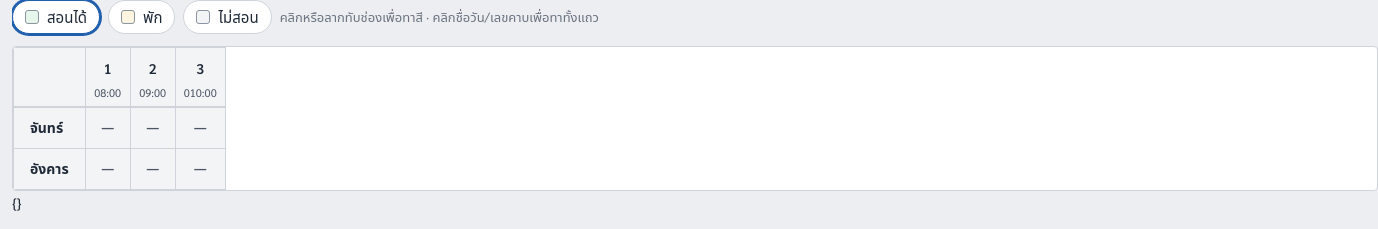
Test: เลือกพู่กันแล้วคลิก/ลากทาช่อง และคลิกหัวแถวทาทั้งวัน
The width and height of the screenshot is (1378, 229).
Press the mouse on the button named "จันทร์ คาบ 1 ไม่สอน": (108, 128) [86,108,130,148]
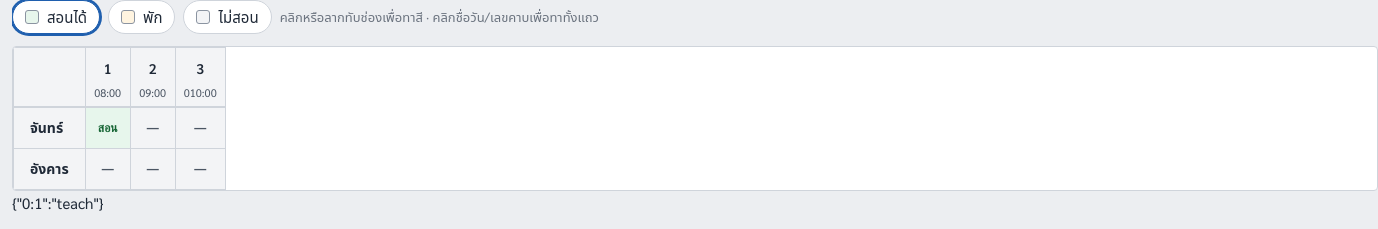
Hover over the button named "จันทร์ คาบ 2 ไม่สอน": (153, 128) [131,108,175,148]
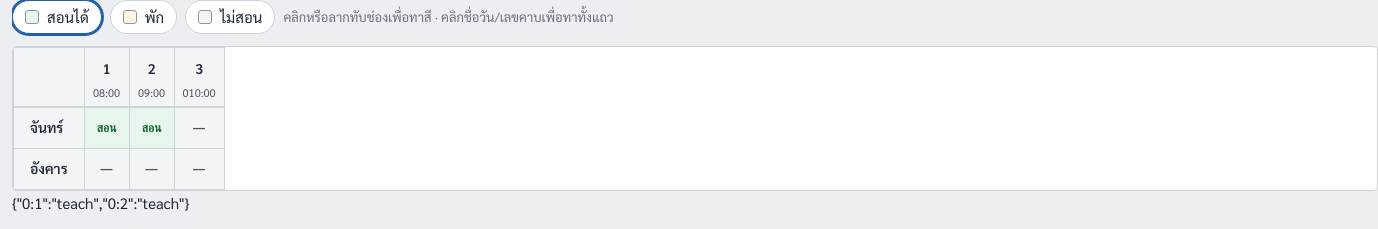
expect the button with aria-label "จันทร์ คาบ 2 สอนได้" is shown: met, box [130,108,174,148]
Click the radio button "พัก": (144, 17) [110,0,177,34]
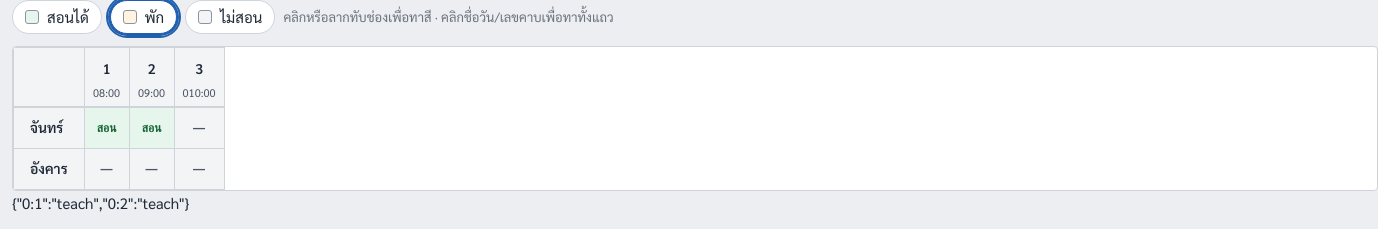
Click the button with aria-label "ทาทั้งวันอังคาร": (49, 169) [22,153,76,185]
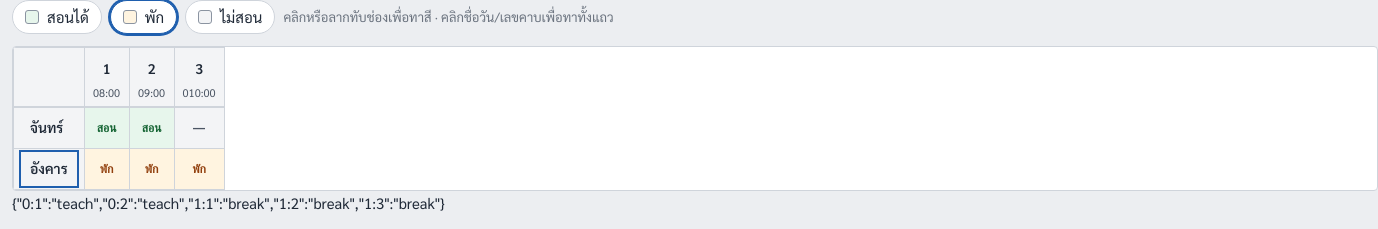
expect the button named "อังคาร คาบ 3 พัก" is shown: met, box [175,149,224,189]
